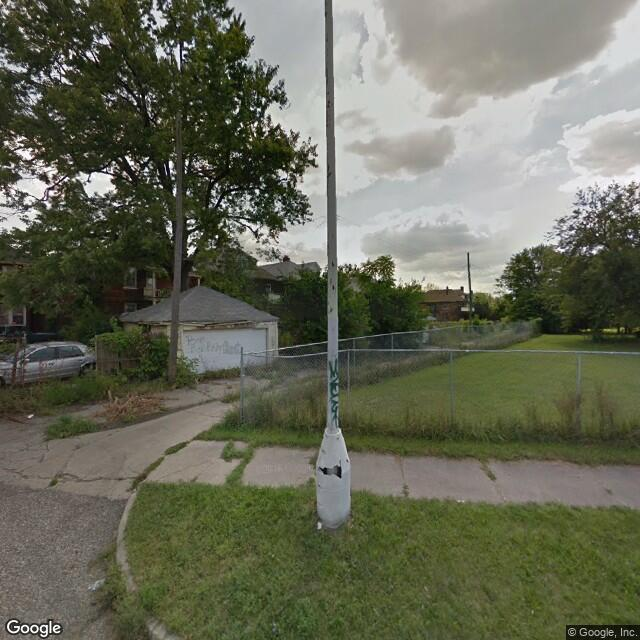litter: (307, 519, 327, 534), (22, 405, 38, 421)
